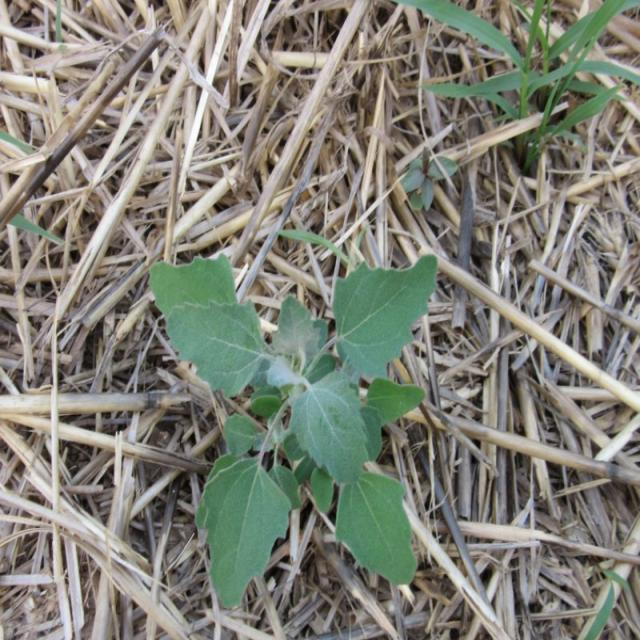ca: (148, 255, 437, 614)
